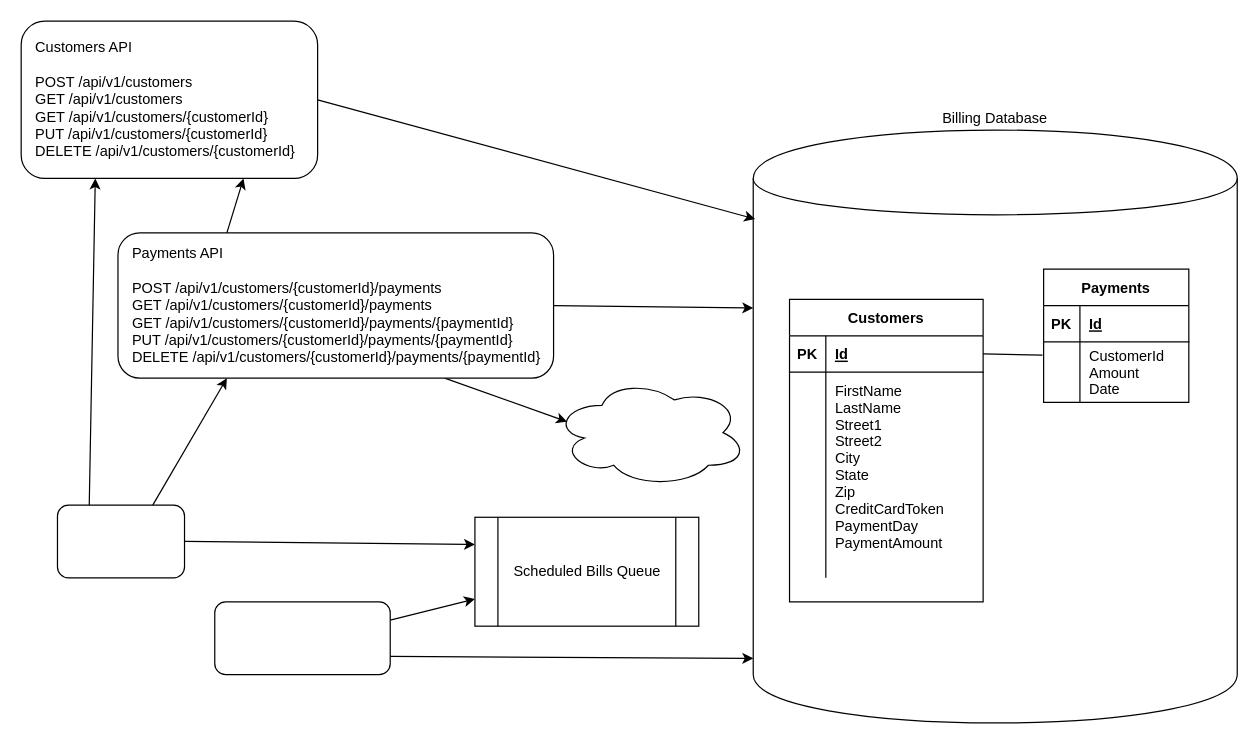
Image size: 1258x744. Some labels were removed from this diagram. The shapes that lost their labels are listed below. From the top down, each one's centre as x and y in pixels, then its label:
At pixel 649 432: "Stripe".
At pixel 120 541: "Billing Service".
At pixel 302 638: "Bill Scheduling Service".
